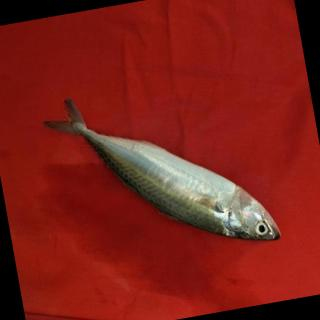Ikan: (20, 44, 295, 293)
